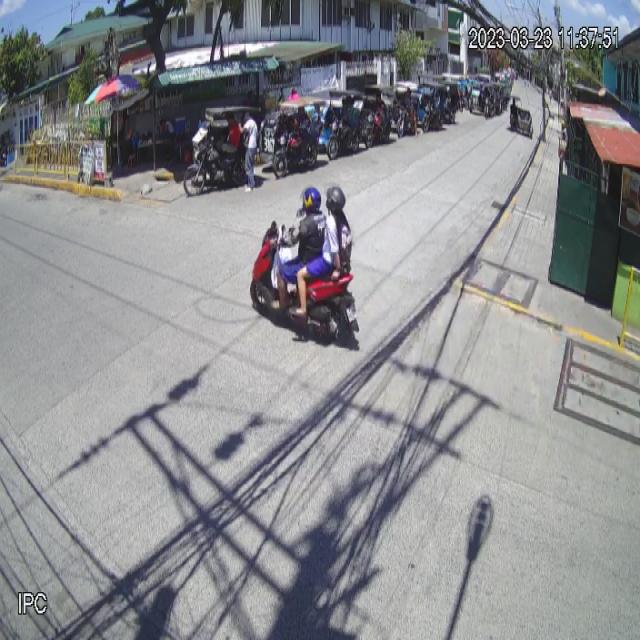Motorcycle: (249, 219, 360, 347)
